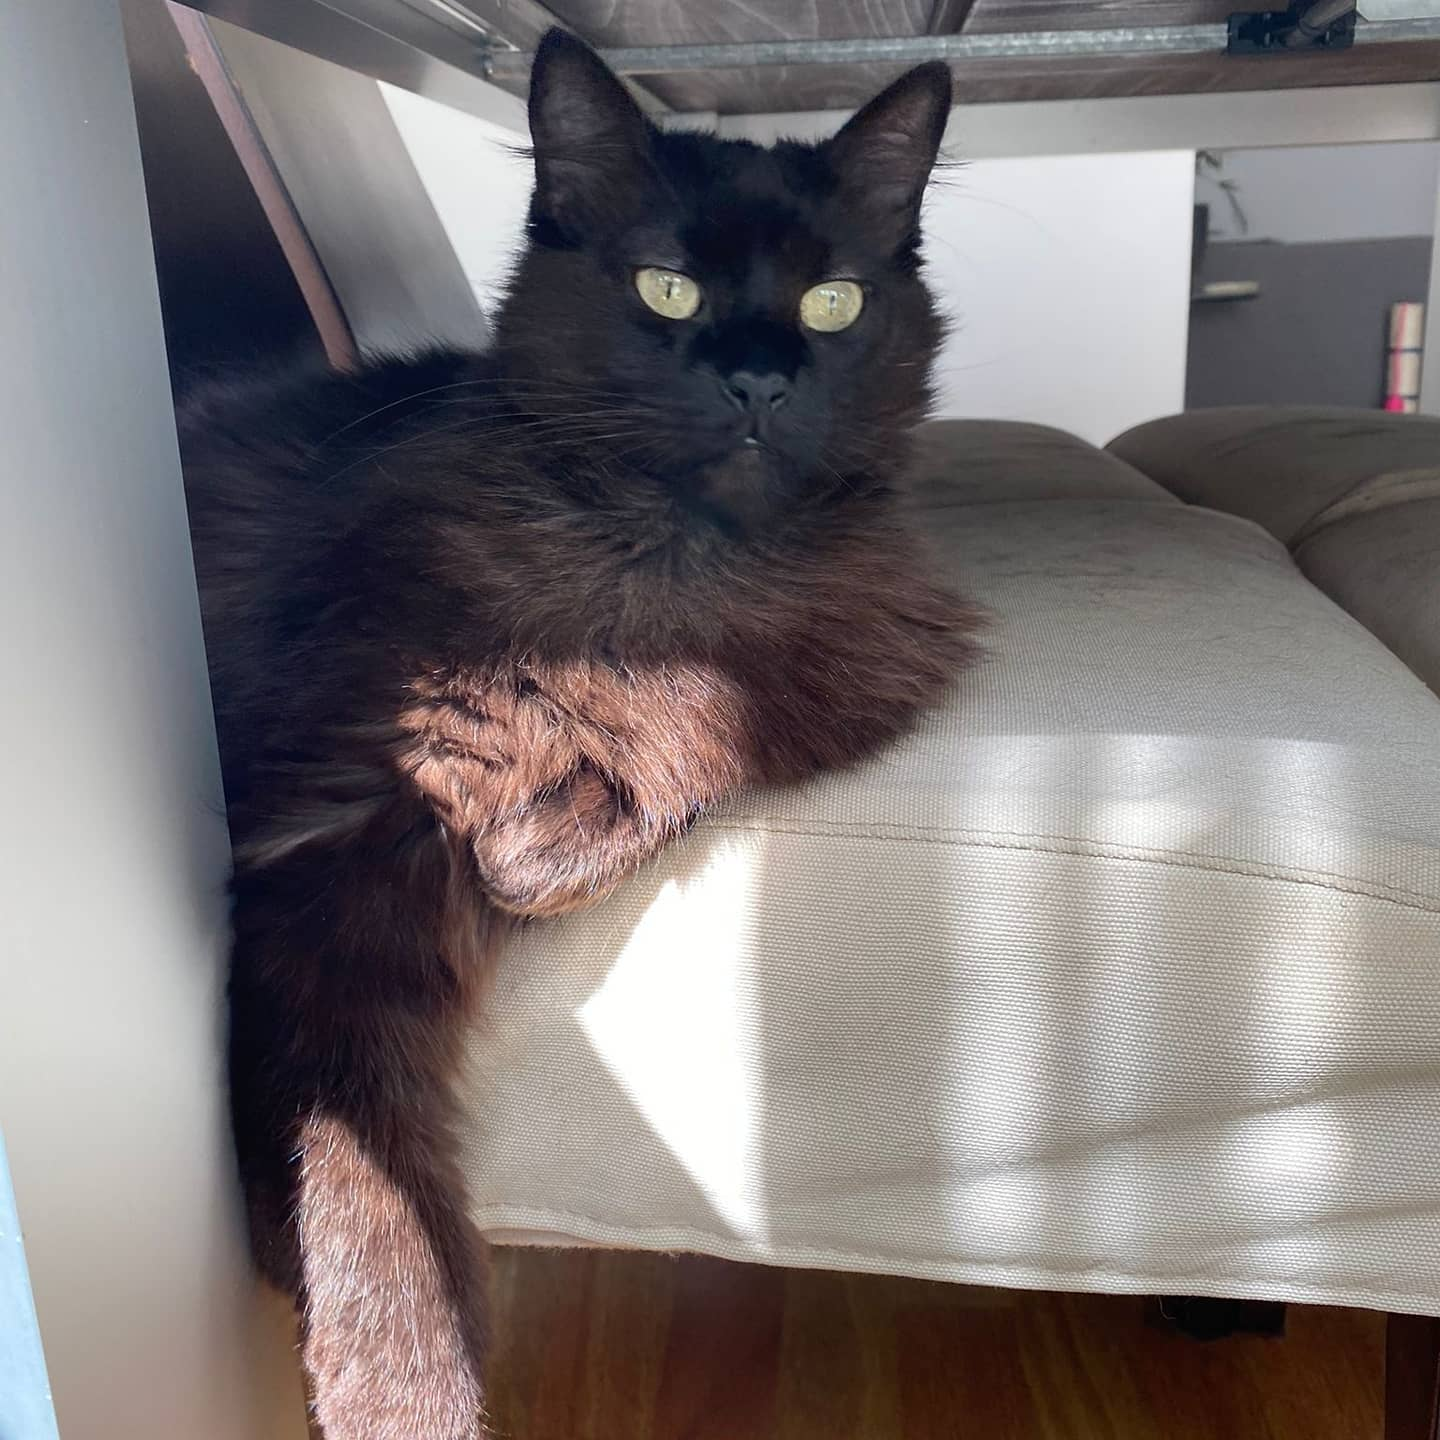cat: (179, 28, 1001, 1389)
